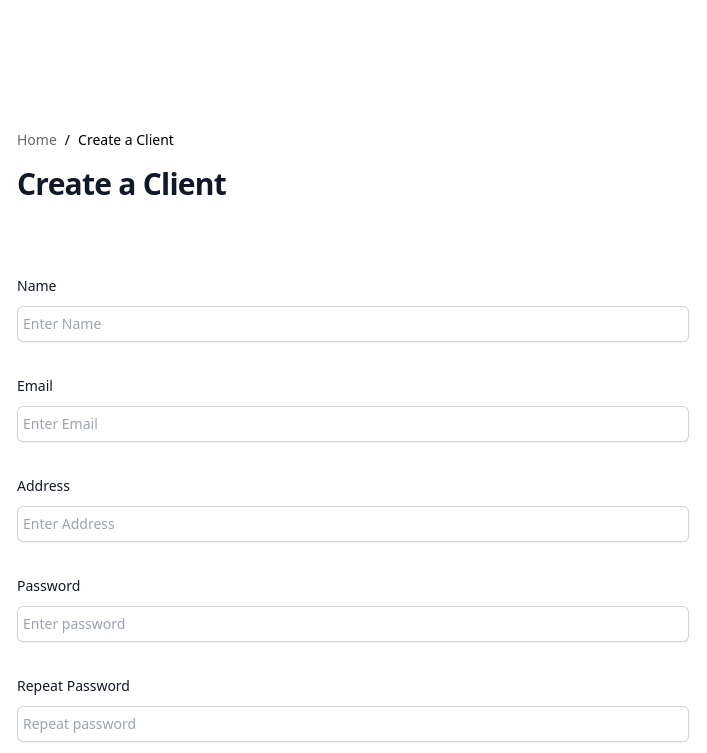
it: Client page › Un Happy Path › Shows an error message when the form is not completely filled out
Step 1. Type "Test Userson" into the field with id "name" → (353, 324), box [17,306,689,342]
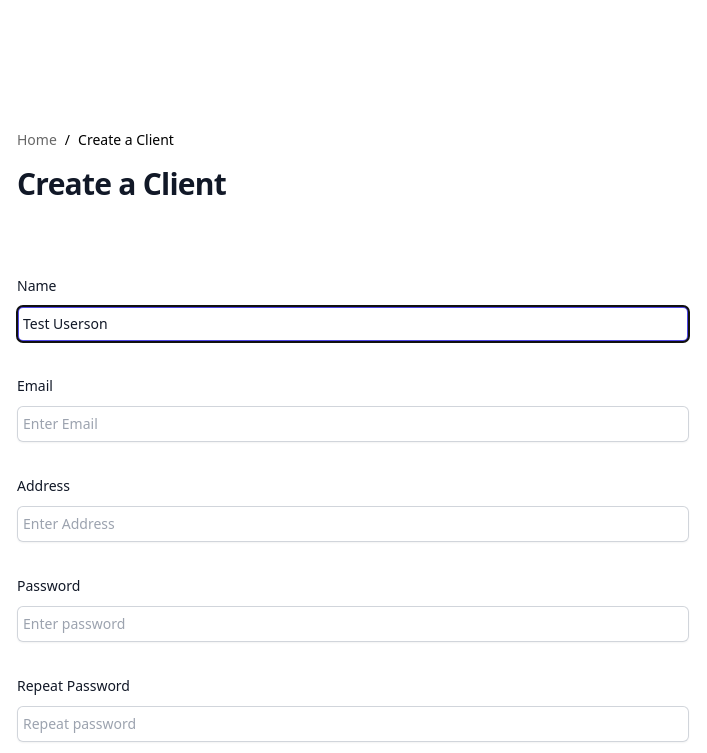
Step 2. Type "password" into the field labelled "Repeat Password" → (353, 724), box [17,706,689,742]
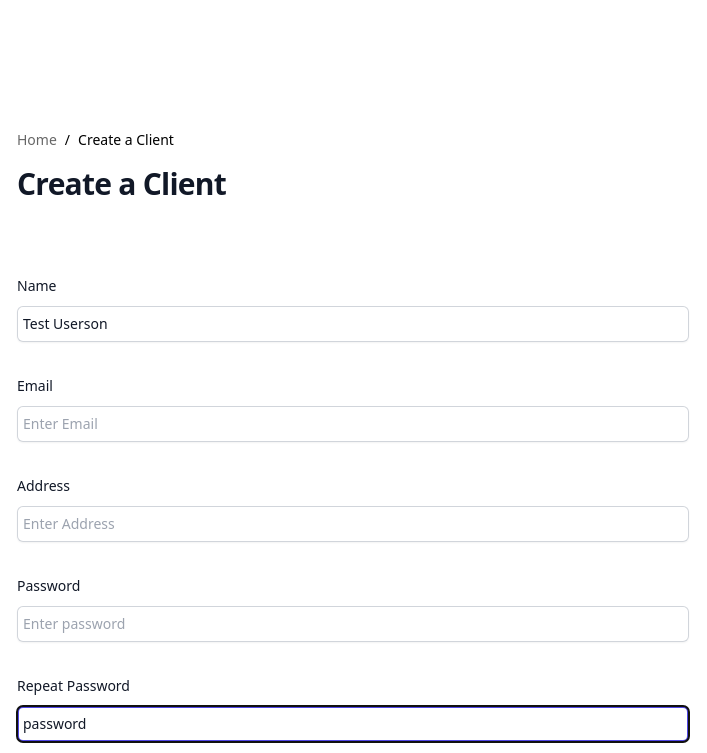
Step 3. Scroll
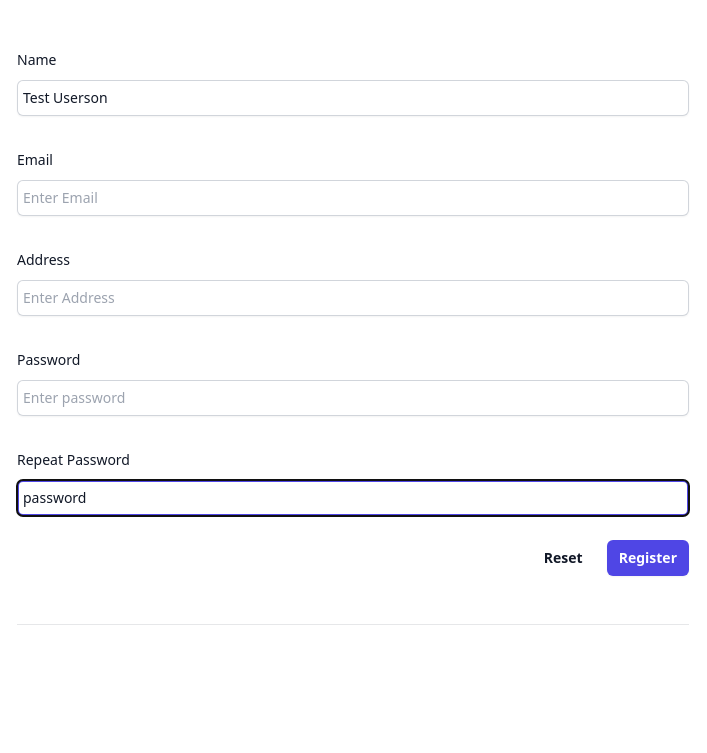
Step 4. Click the button with id "submit" → (648, 558), box [607,540,689,576]
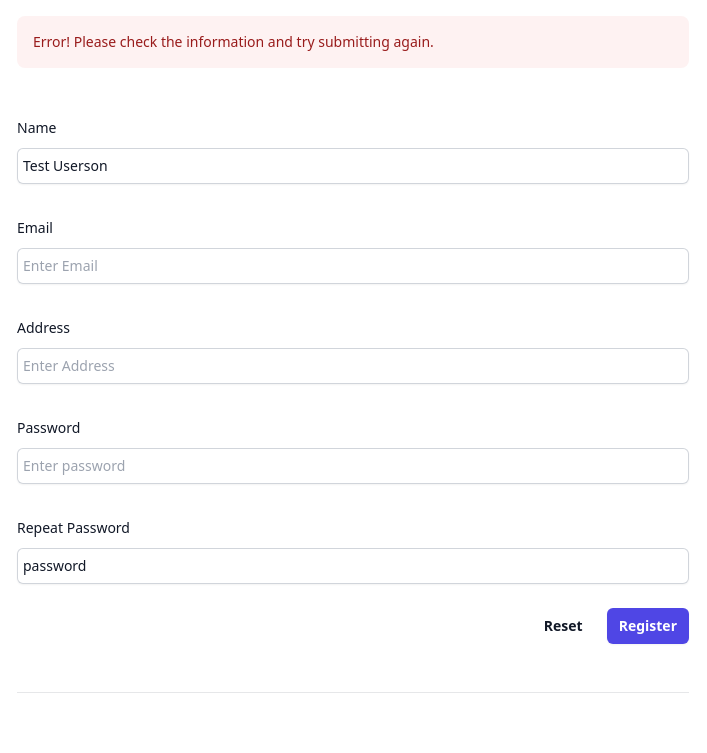
Expected: the text "Please check the information and try submitting again." is shown, [70,32,434,51]
